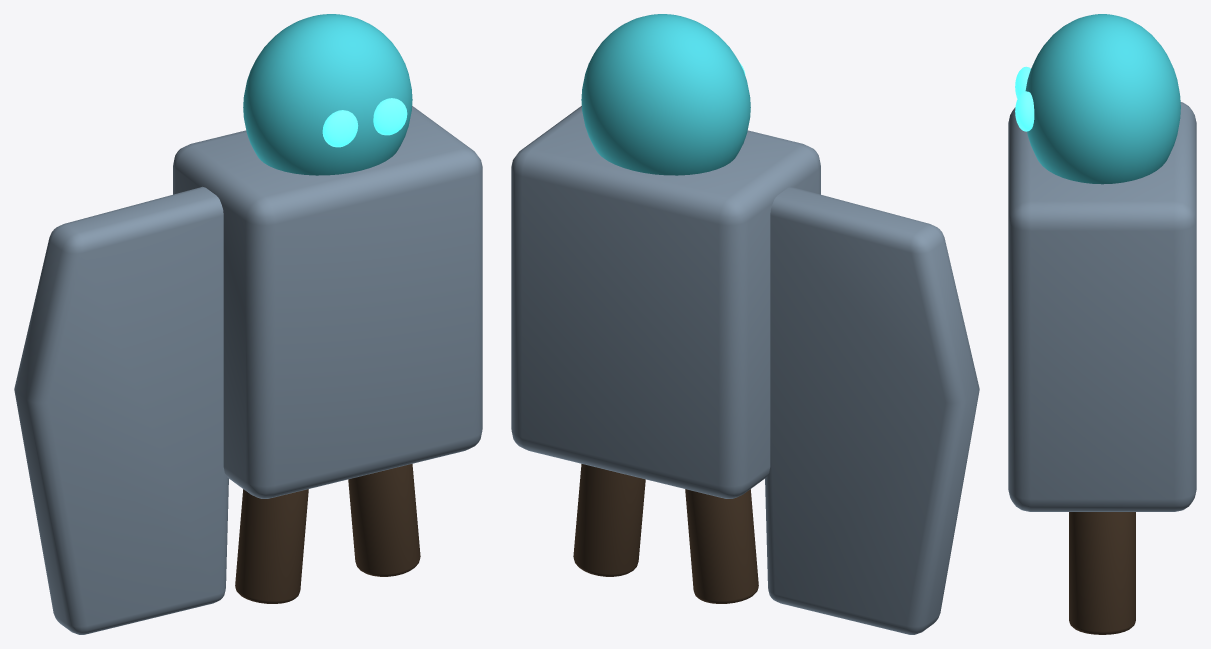
File: humanoid_v8.glb
3 renders of one model, left to right at view 1: azimuth 30°, elevation 25°; view 2: azimuth 150°, elevation 25°; view 3: azimuth 270°, elevation 25°, orthographic. The views are drawn at different scales.
Parts seen in each view (by area): view 1: SHIELDBEARER_TORSO_PRIMARY, GREAT_SHIELD_PRIMARY, SHIELDBEARER_HELM_ACCENT, SHIELDBEARER_LEG_SECONDARY, SHIELDBEARER_LEG_SECONDARY.001, EYE_EMISSIVE, EYE_EMISSIVE.001; view 2: SHIELDBEARER_TORSO_PRIMARY, GREAT_SHIELD_PRIMARY, SHIELDBEARER_HELM_ACCENT, SHIELDBEARER_LEG_SECONDARY, SHIELDBEARER_LEG_SECONDARY.001; view 3: SHIELDBEARER_TORSO_PRIMARY, SHIELDBEARER_HELM_ACCENT, SHIELDBEARER_LEG_SECONDARY.001, EYE_EMISSIVE.001, EYE_EMISSIVE.
Part boxes in pixels (box(x1,y1,x2,y2)): SHIELDBEARER_TORSO_PRIMARY: box(173, 106, 482, 498); GREAT_SHIELD_PRIMARY: box(14, 186, 228, 634); SHIELDBEARER_HELM_ACCENT: box(243, 14, 412, 175); SHIELDBEARER_LEG_SECONDARY: box(235, 489, 308, 603); SHIELDBEARER_LEG_SECONDARY.001: box(348, 464, 420, 576); EYE_EMISSIVE: box(322, 110, 358, 147); EYE_EMISSIVE.001: box(373, 98, 407, 135); SHIELDBEARER_TORSO_PRIMARY: box(511, 106, 820, 498); GREAT_SHIELD_PRIMARY: box(765, 186, 979, 634); SHIELDBEARER_HELM_ACCENT: box(581, 14, 750, 175); SHIELDBEARER_LEG_SECONDARY: box(685, 489, 758, 603); SHIELDBEARER_LEG_SECONDARY.001: box(573, 464, 645, 576); SHIELDBEARER_TORSO_PRIMARY: box(1008, 102, 1196, 511); SHIELDBEARER_HELM_ACCENT: box(1025, 14, 1180, 184); SHIELDBEARER_LEG_SECONDARY.001: box(1069, 512, 1135, 634); EYE_EMISSIVE.001: box(1015, 91, 1034, 131); EYE_EMISSIVE: box(1015, 66, 1030, 98).
Bounding box in the file's own units: 2.24 × 2.83 × 0.84.
